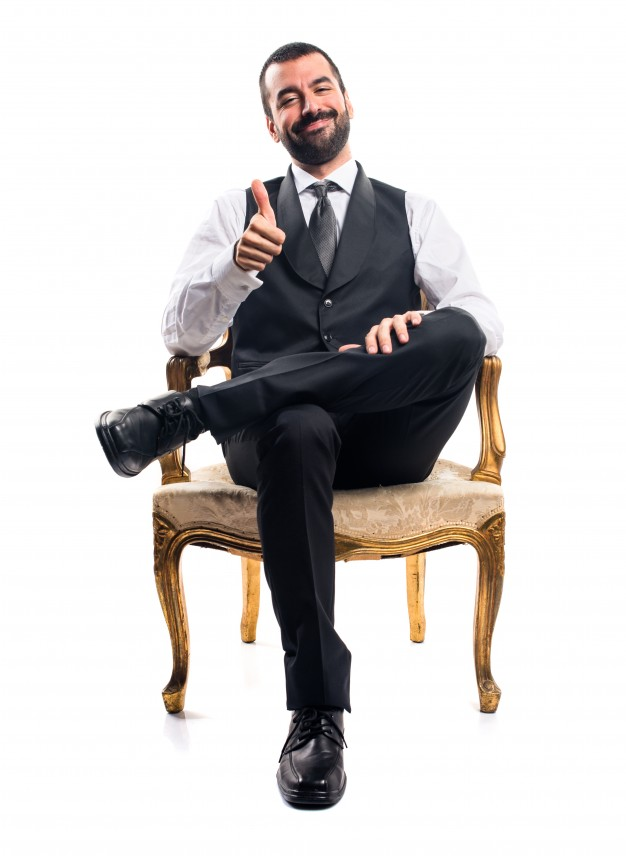thumbsup: (236, 179, 285, 271)
